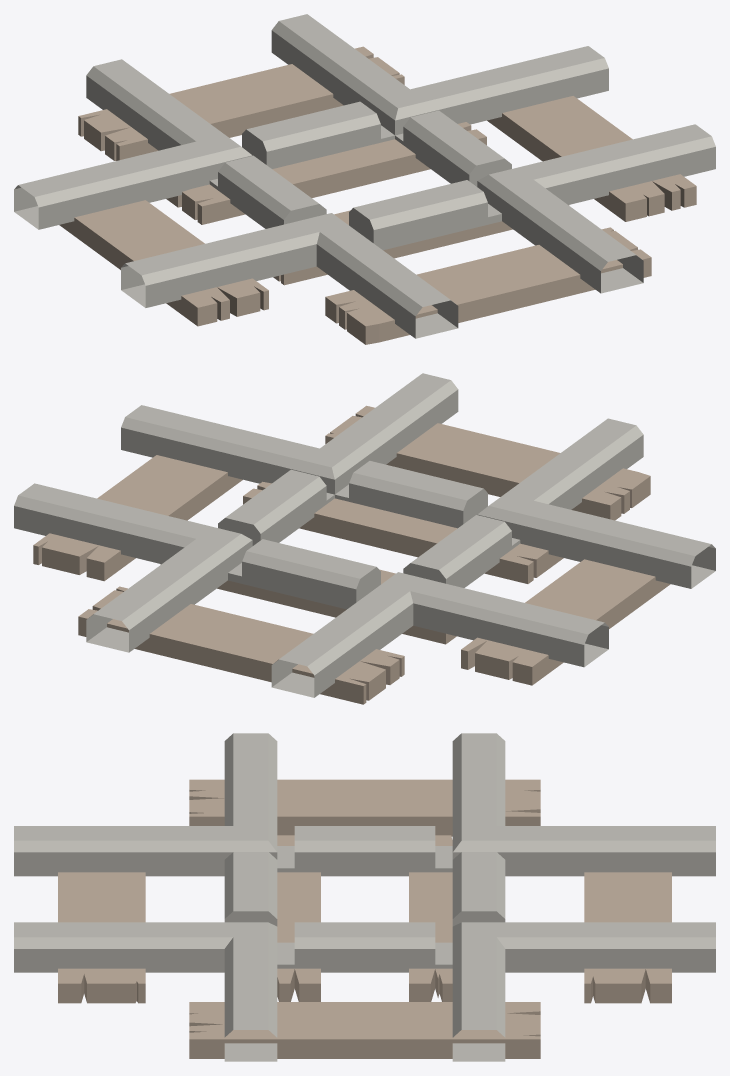
File: Cave_Prop_Railway_Intersection.glb
The picture shows the model from 3 angles, top to bottom: view 1: azimuth 30°, elevation 25°; view 2: azimuth 150°, elevation 25°; view 3: azimuth 270°, elevation 25°; orthographic projection. The views are drawn at different scales.
Parts seen in each view (by area): view 1: Cave_Prop_Railway_Intersection; view 2: Cave_Prop_Railway_Intersection; view 3: Cave_Prop_Railway_Intersection.
Boxes of the visible parts, left/top/right/bottom form: Cave_Prop_Railway_Intersection: left=14, top=14, right=715, bottom=344; Cave_Prop_Railway_Intersection: left=14, top=373, right=715, bottom=704; Cave_Prop_Railway_Intersection: left=14, top=733, right=715, bottom=1061.
Size of the model in its own units: 1.06 by 0.0795 by 1.06.
